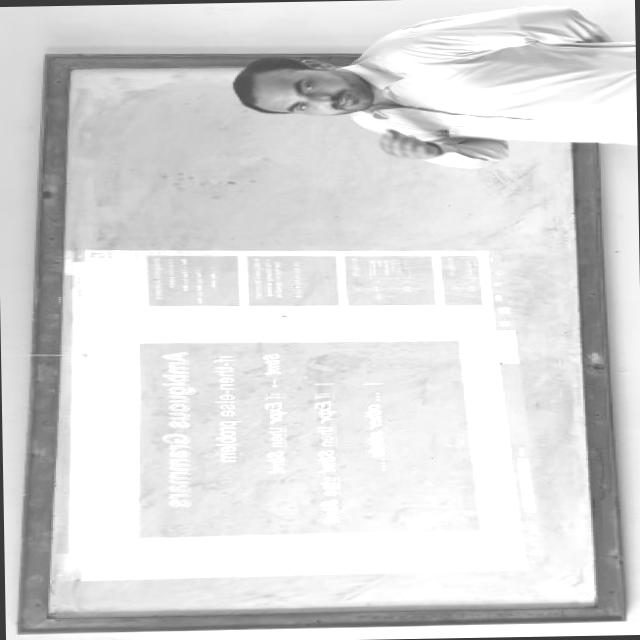Instructor: (226, 28, 620, 149)
Slide: (49, 248, 550, 579)
White-board: (34, 54, 607, 628)
